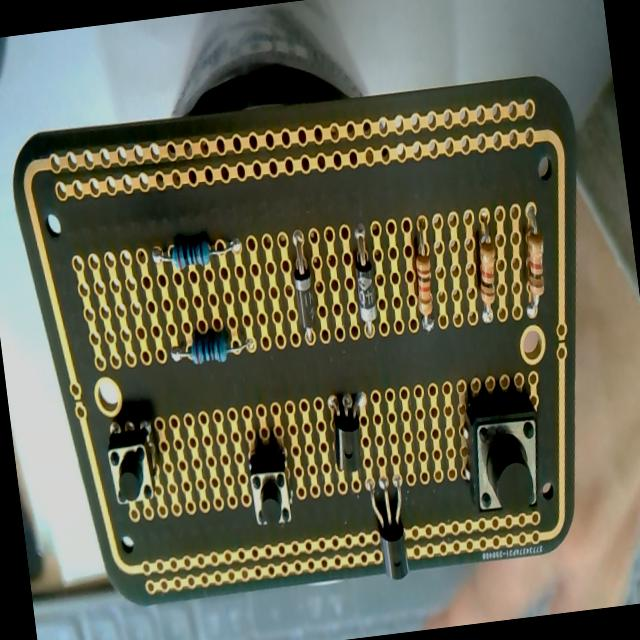diode: (337, 212, 388, 346), (282, 223, 326, 359)
resistor: (461, 200, 511, 332), (512, 192, 550, 332), (401, 210, 443, 333), (146, 226, 248, 272), (170, 328, 262, 374)
switch: (462, 381, 548, 524), (99, 410, 167, 514), (237, 439, 304, 541)
transistor: (359, 468, 424, 590), (319, 370, 381, 477)
